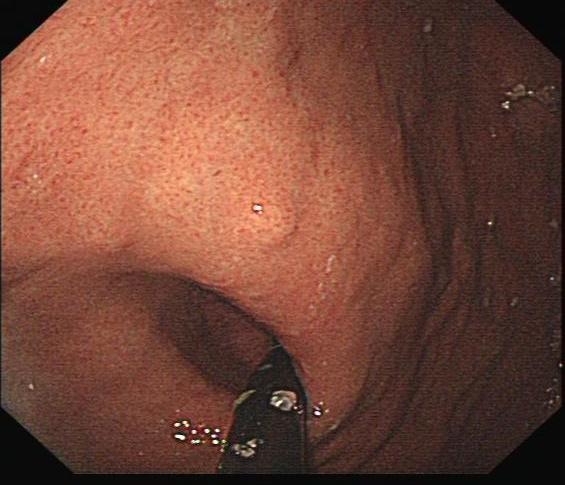Polyp: (249, 191, 300, 242)
